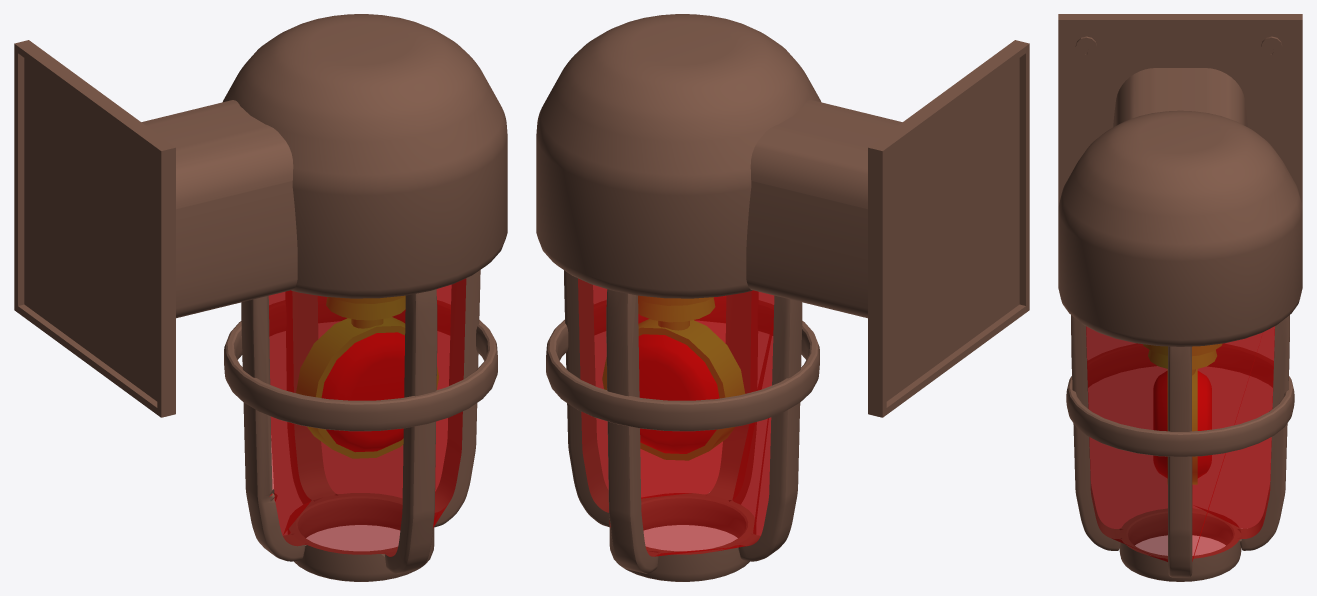
Rendered from alarm_light.glb.
3 renders of one model, left to right at view 1: azimuth 30°, elevation 25°; view 2: azimuth 150°, elevation 25°; view 3: azimuth 270°, elevation 25°, orthographic. The views are drawn at different scales.
Parts seen in each view (by area): view 1: Bec-Alerta-Rosu; view 2: Bec-Alerta-Rosu; view 3: Bec-Alerta-Rosu.
Part boxes in pixels (x1,y1,x2,y2): Bec-Alerta-Rosu: (14, 14, 507, 581); Bec-Alerta-Rosu: (536, 14, 1029, 581); Bec-Alerta-Rosu: (1058, 14, 1302, 581).
Size of the model in its own units: 0.852 by 1.06 by 0.5418.
